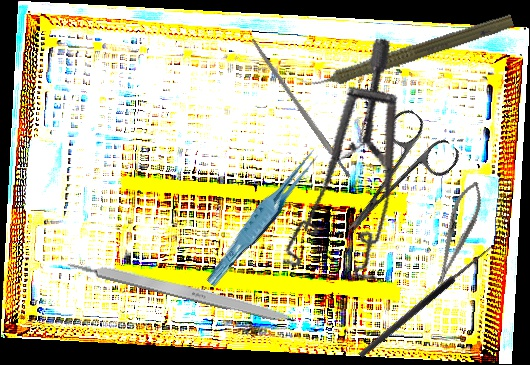Handpiece: (295, 5, 516, 100)
Hook Surgical: (352, 237, 494, 360)
Iris Scissors: (319, 104, 464, 255)
Needle Holder: (426, 177, 489, 290)
Scalpel Handle: (64, 253, 298, 327), (249, 37, 352, 180)
Speculum: (235, 36, 445, 301)
Tissue Forceps: (196, 147, 331, 288)
